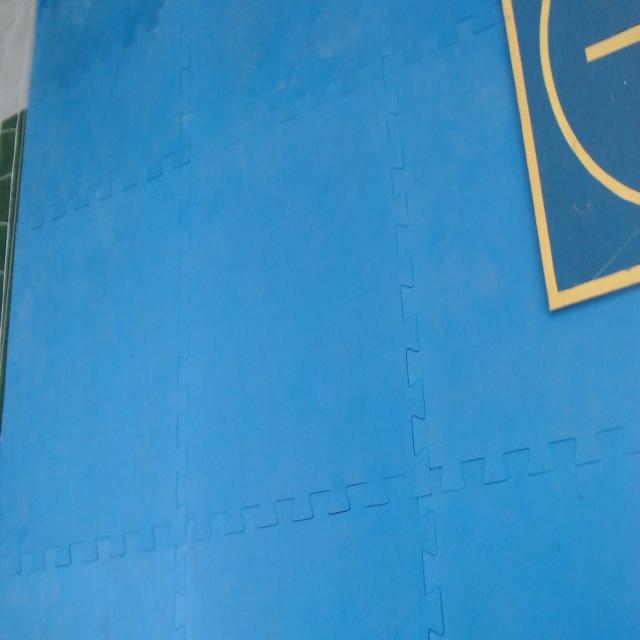base_pouso: (502, 0, 640, 314)
